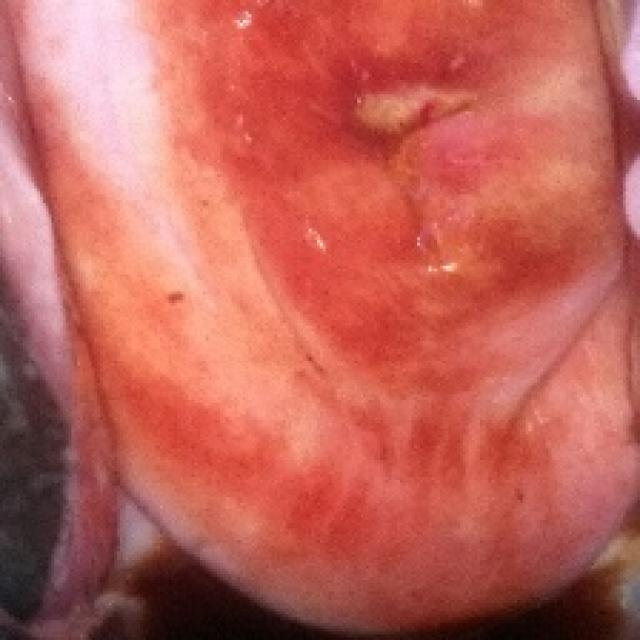type-3: (13, 0, 640, 578)
